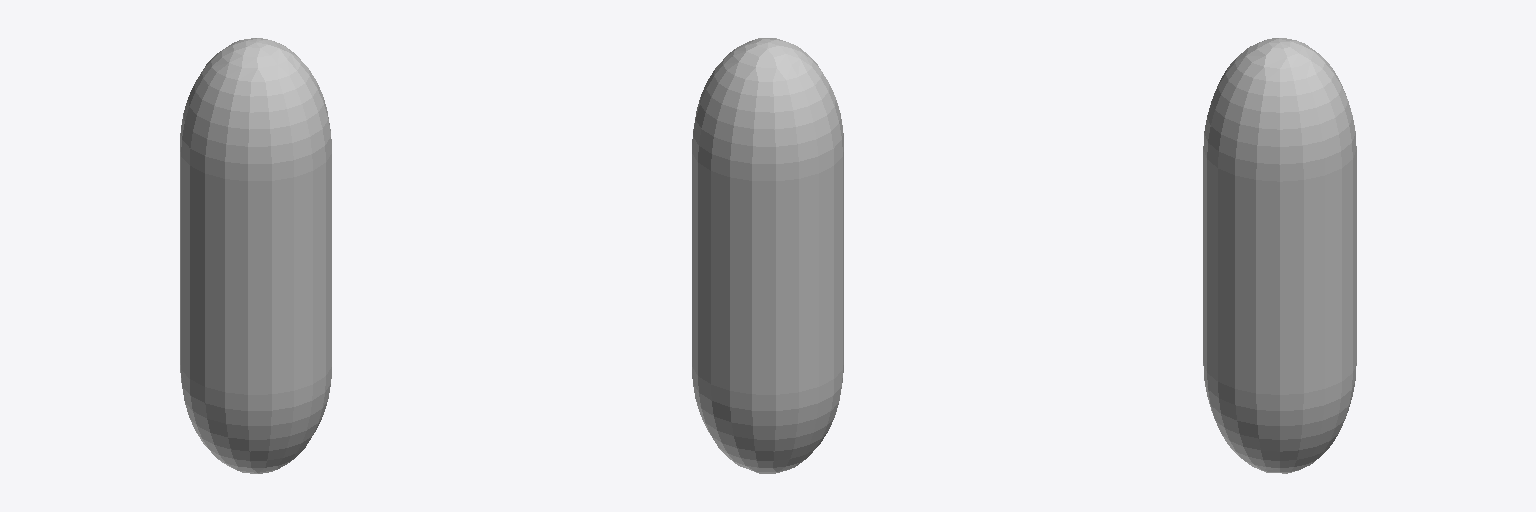
File: englobed.obj
3 views of the same model, side by side, from view 1: azimuth 30°, elevation 25°; view 2: azimuth 150°, elevation 25°; view 3: azimuth 270°, elevation 25° (orthographic).
Parts seen in each view (by area): view 1: englobed; view 2: englobed; view 3: englobed.
Part boxes in pixels (left/top/right/bottom): englobed: left=180, top=38, right=331, bottom=473; englobed: left=692, top=38, right=843, bottom=473; englobed: left=1203, top=38, right=1356, bottom=473.
Bounding box in the file's own units: 0.6765 × 2.08 × 0.6765.